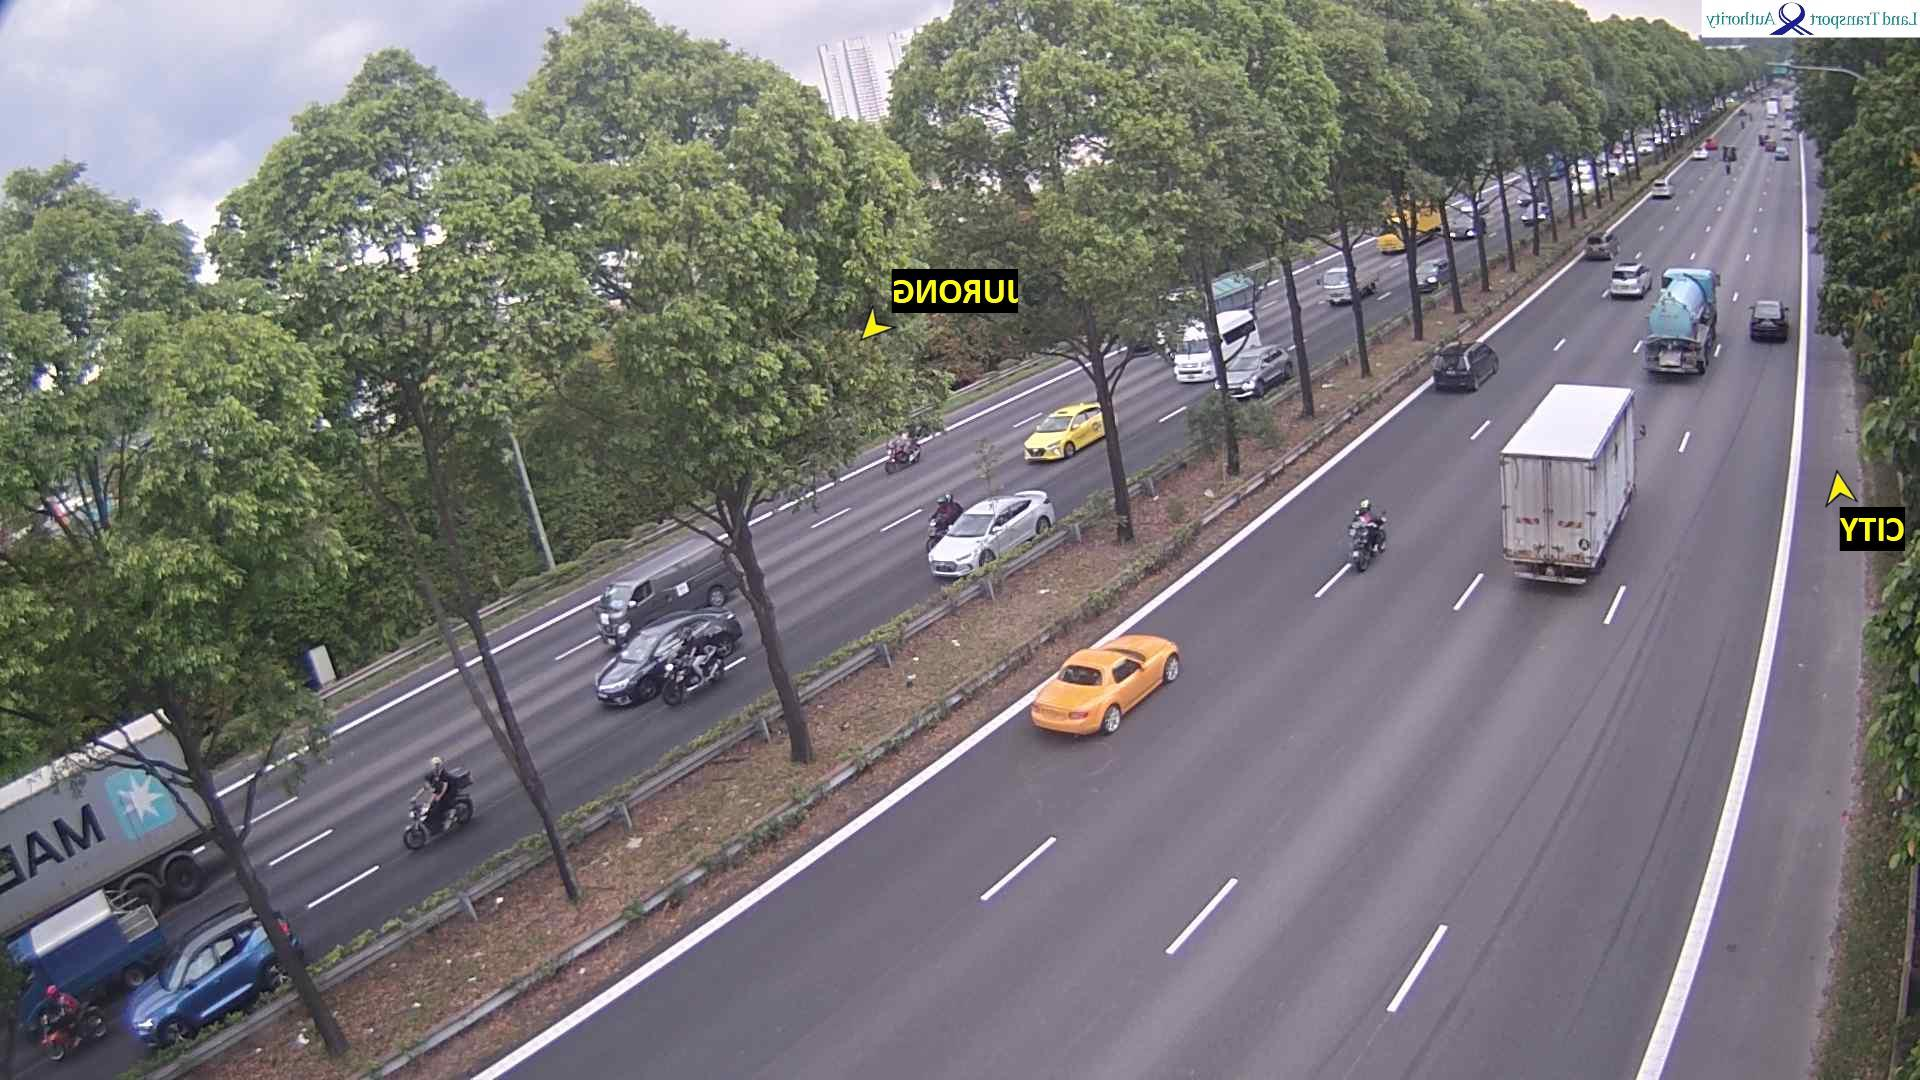cars: (125, 907, 306, 1048), (7, 887, 170, 1033), (595, 533, 744, 647), (1031, 632, 1183, 737), (596, 607, 746, 708), (928, 488, 1058, 580), (1174, 307, 1259, 382), (1025, 400, 1109, 462), (1215, 342, 1298, 400), (38, 488, 120, 538), (1432, 339, 1501, 392), (1042, 334, 1130, 371), (1211, 269, 1259, 311), (1609, 260, 1654, 299), (1750, 298, 1789, 342), (1444, 208, 1487, 239), (1416, 256, 1453, 291), (1568, 169, 1598, 200), (1586, 229, 1619, 258), (1520, 198, 1551, 224), (1651, 175, 1676, 196), (1601, 157, 1622, 182), (1635, 136, 1654, 157), (1774, 144, 1791, 160), (1759, 132, 1776, 148), (1692, 145, 1709, 160), (1622, 153, 1635, 164)
motorcycle: (32, 985, 109, 1062), (404, 769, 476, 851), (655, 633, 721, 702), (914, 491, 968, 545), (1349, 513, 1390, 574), (884, 433, 924, 473), (1725, 165, 1731, 173)
trucks: (1, 705, 229, 936), (1499, 381, 1646, 585), (1638, 266, 1722, 376), (1378, 181, 1445, 255), (1323, 264, 1379, 305), (1721, 141, 1738, 158)
